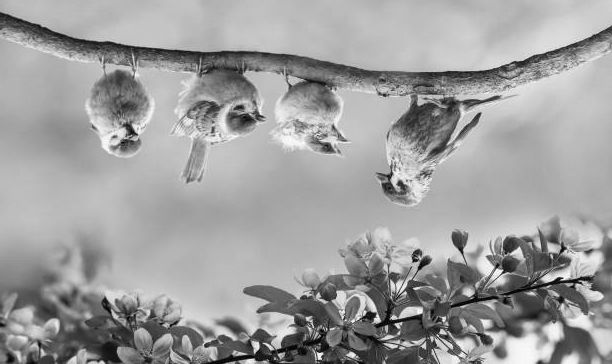Bird: (372, 84, 523, 209), (171, 54, 268, 184), (82, 49, 155, 160), (272, 63, 354, 160)
